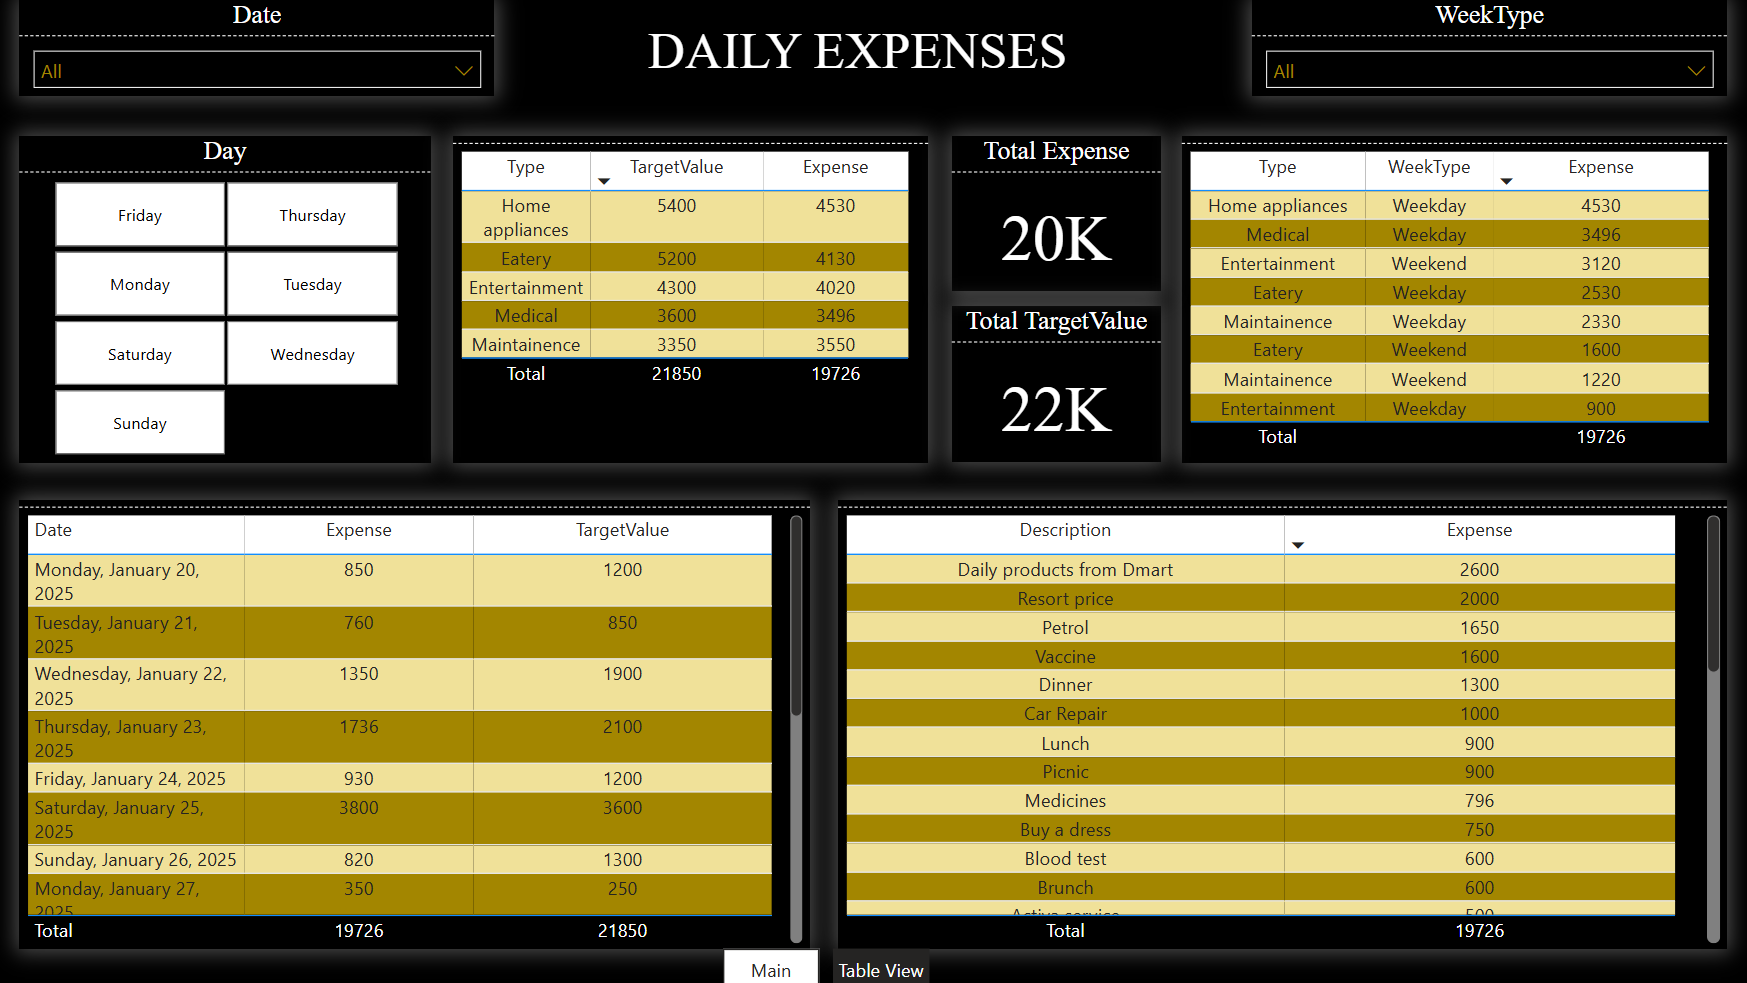

The dashboard page shown, as its layout file describes it:
{"tool":"powerbi","page":{"name":"Table View","canvas":[1280,720],"ordinal":1},"visuals":[{"type":"tableEx","fields":{"Values":["pro1 details_view.Description","Sum(pro1 details_view.Expense)"]},"box":[614.8,363.6,646.3,326.6],"z":0},{"type":"tableEx","fields":{"Values":["pro1 details_view.Type","pro1 schedule_view.WeekType","Sum(pro1 details_view.Expense)"]},"box":[864.5,98.8,396.6,237.4],"z":1000},{"type":"tableEx","fields":{"Values":["pro1 schedule_view.Type","Sum(pro1 schedule_view.TargetValue)","Sum(pro1 details_view.Expense)"]},"box":[334.8,98.8,345.8,237.4],"z":2000},{"type":"card","title":"Total Expense","fields":{"Values":["Sum(pro1 details_view.Expense)"]},"box":[697.1,98.8,152.3,112.5],"z":3000},{"type":"card","title":"Total TargetValue","fields":{"Values":["Sum(pro1 schedule_view.TargetValue)"]},"box":[697.1,222.3,152.3,113.9],"z":4000},{"type":"slicer","title":"Date","fields":{"Values":["pro1 details_view.Date"]},"box":[19.2,0,345.8,70],"z":5000},{"type":"slicer","title":"Day","fields":{"Values":["pro1 schedule_view.Day"]},"box":[19.2,98.8,299.1,237.4],"z":6000},{"type":"textbox","box":[415.8,9.6,426.8,60.4],"z":7000},{"type":"tableEx","fields":{"Values":["pro1 schedule_view.Date","Sum(pro1 details_view.Expense)","Sum(pro1 schedule_view.TargetValue)"]},"box":[19.2,363.6,575,326.6],"z":8000},{"type":"slicer","title":"WeekType","fields":{"Values":["pro1 schedule_view.WeekType"]},"box":[915.3,0,345.8,70],"z":9000},{"type":"pageNavigator","box":[530.8,689.8,150.8,30.2],"z":9001}]}

Visuals, with their boxes in screenshot pixels (x1, y1, x2, y2), scaled from the page's 1280x720 canvas onto the 1747x983 screenshot:
tableEx - pro1 details_view.Description x Sum(pro1 details_view.Expense): box(839, 496, 1721, 942)
tableEx - pro1 details_view.Type x pro1 schedule_view.WeekType: box(1180, 135, 1721, 459)
tableEx - pro1 schedule_view.Type x Sum(pro1 schedule_view.TargetValue): box(457, 135, 929, 459)
"Total Expense" card: box(951, 135, 1159, 288)
"Total TargetValue" card: box(951, 304, 1159, 459)
"Date" slicer: box(26, 0, 498, 96)
"Day" slicer: box(26, 135, 434, 459)
textbox: box(568, 13, 1150, 96)
tableEx - pro1 schedule_view.Date x Sum(pro1 details_view.Expense): box(26, 496, 811, 942)
"WeekType" slicer: box(1249, 0, 1721, 96)
pageNavigator: box(724, 942, 930, 982)
